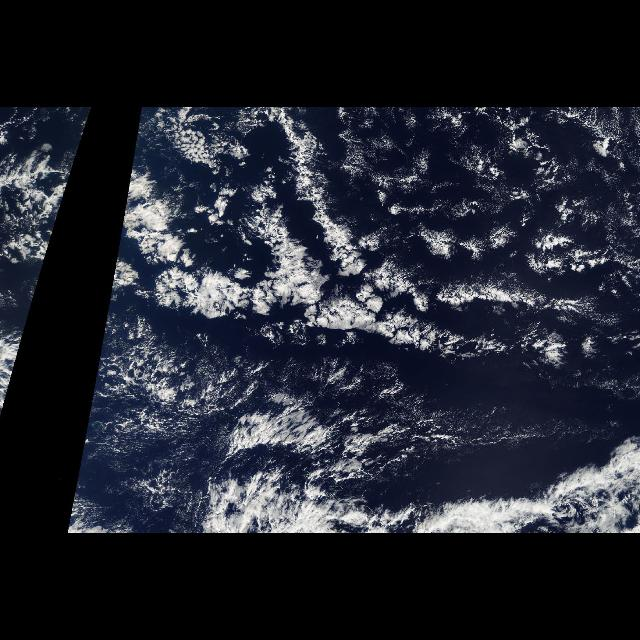Fish: (136, 110, 612, 358)
Flower: (132, 110, 630, 382)
Gravel: (112, 338, 202, 510)
